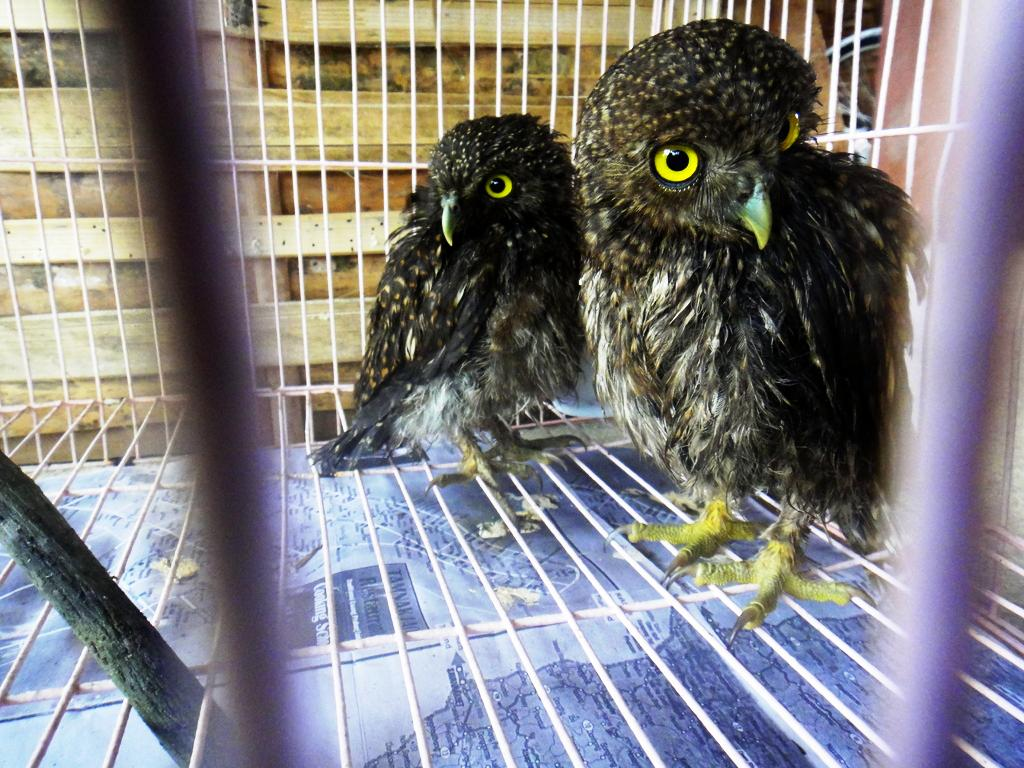Owl: (574, 20, 932, 638), (312, 112, 586, 498)
